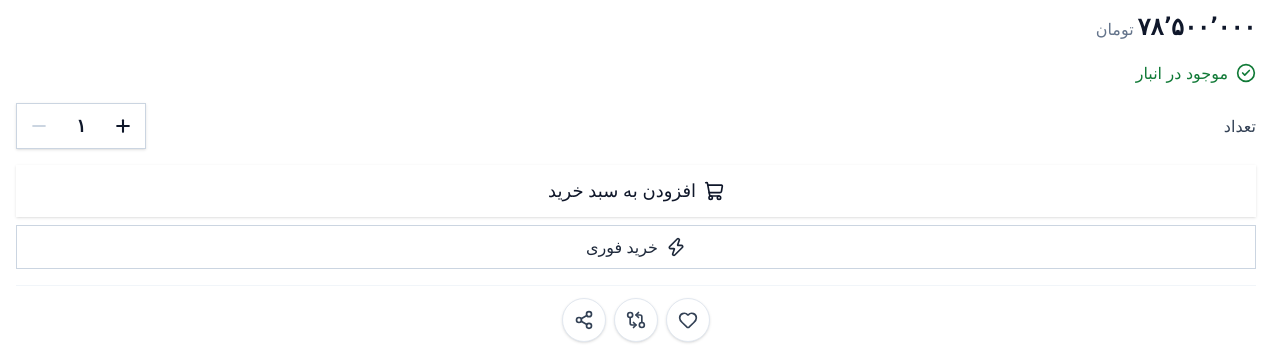
Test: BuyBox: quantity › has no maximum when the limit is 0 and starts at 1 without a minimum
Expected: the element named "تعداد" reads "۱", x1=76 y1=115 x2=86 y2=136
Click the button named "افزایش تعداد" at (123, 126), box x1=101 y1=104 x2=145 y2=148
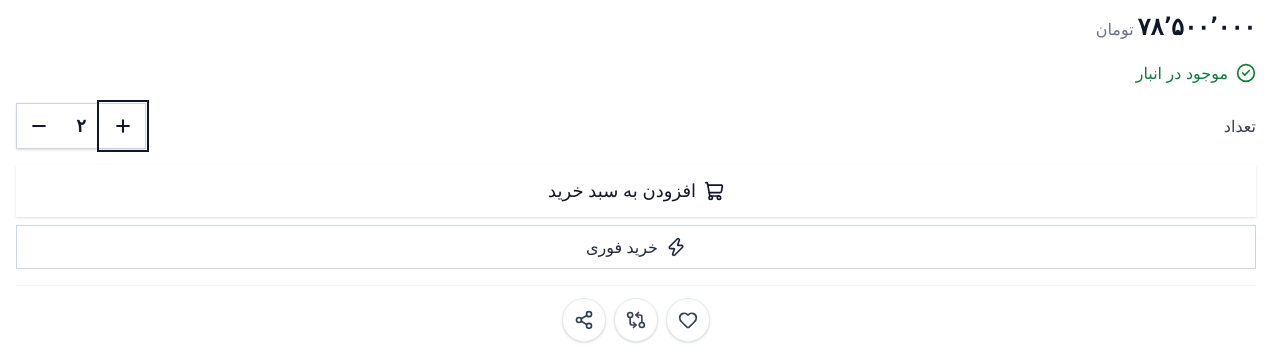
Click the button named "افزایش تعداد" at (123, 126), box x1=101 y1=104 x2=145 y2=148
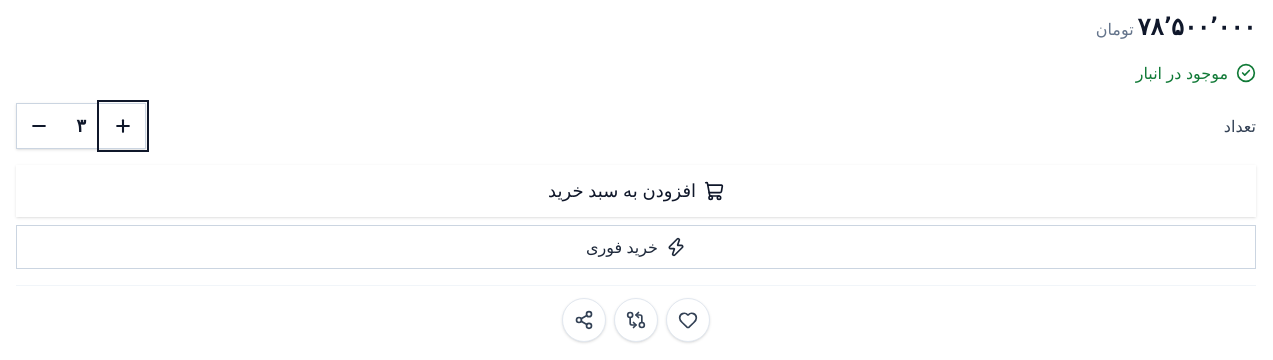
Click the button named "افزایش تعداد" at (123, 126), box x1=101 y1=104 x2=145 y2=148
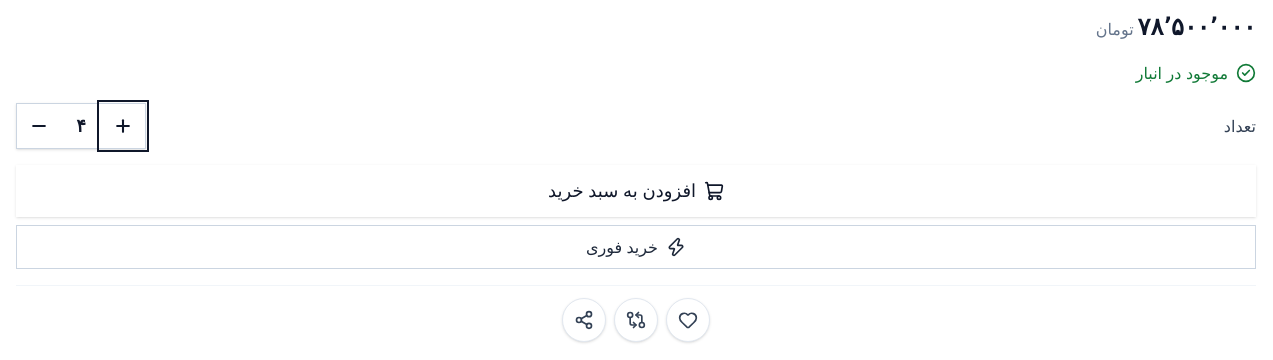
Click the button named "افزایش تعداد" at (123, 126), box x1=101 y1=104 x2=145 y2=148
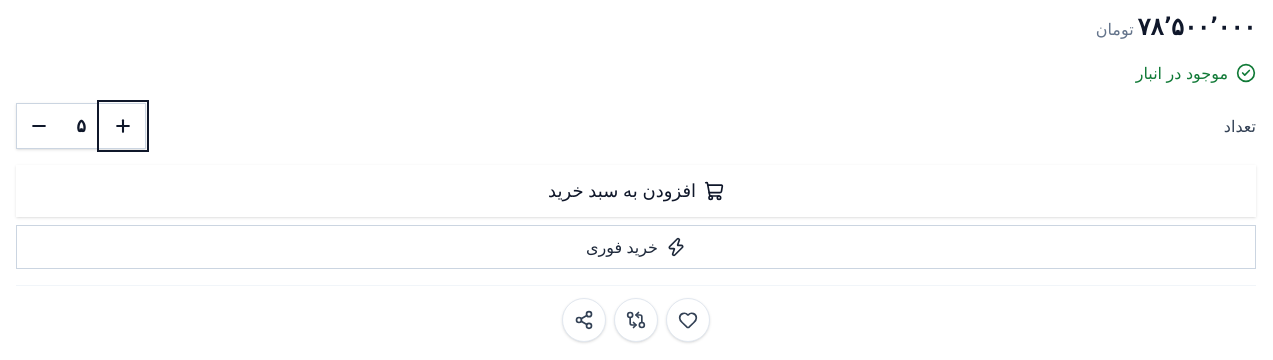
Click the button named "افزایش تعداد" at (123, 126), box x1=101 y1=104 x2=145 y2=148
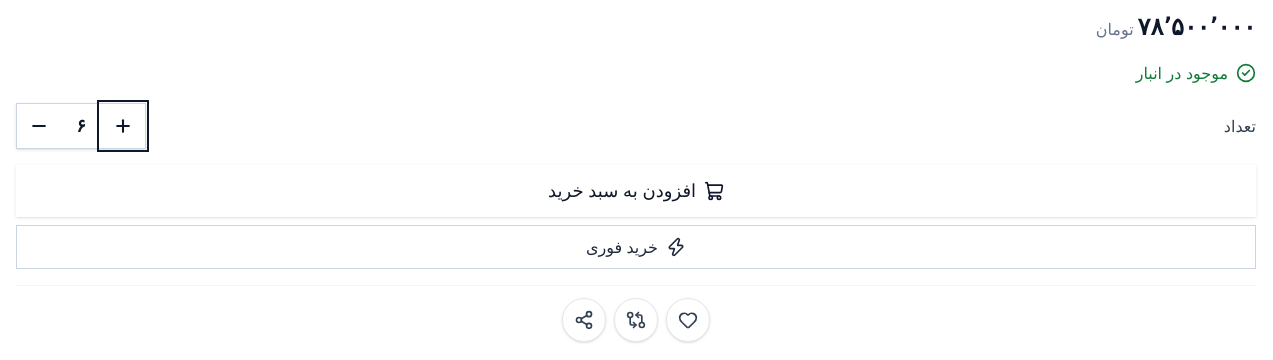
Result: the element named "تعداد" reads "۶" at x1=76 y1=115 x2=86 y2=136
